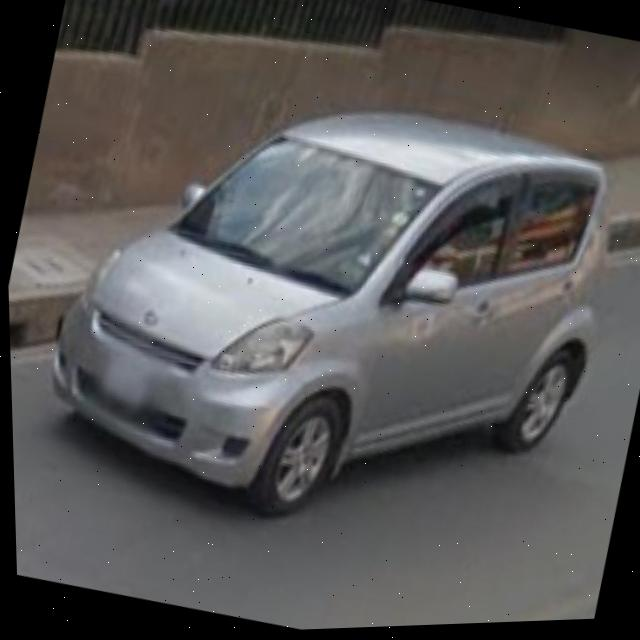vehicle: (44, 60, 633, 587)
